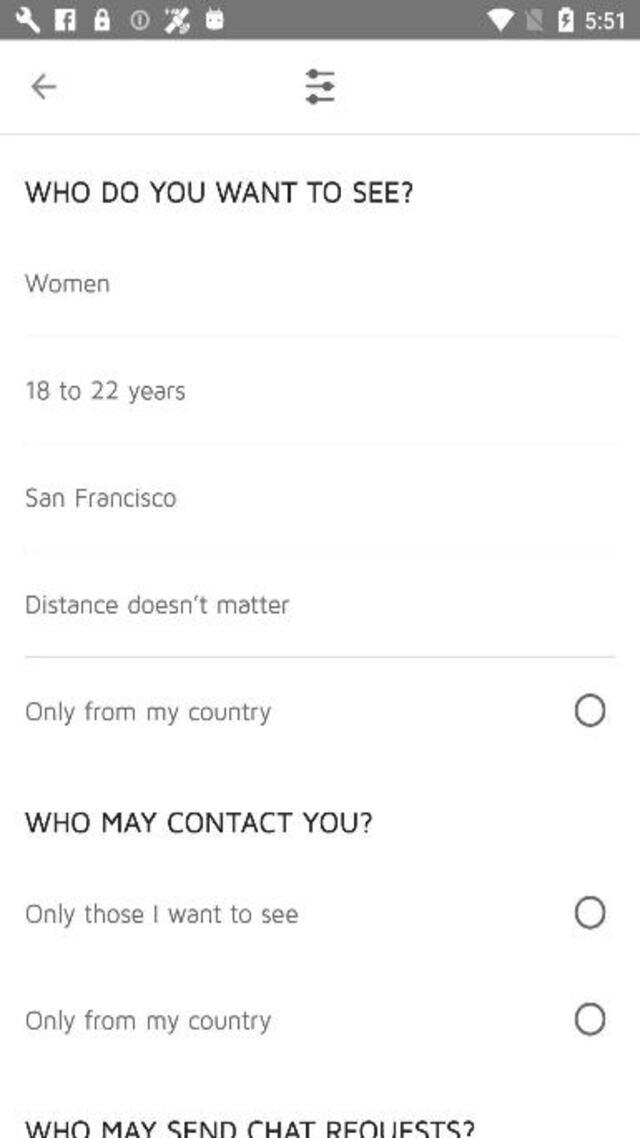CheckedTextView: (26, 895, 606, 929), (26, 1002, 606, 1036), (26, 693, 606, 726)
Icon: (304, 68, 334, 106), (29, 73, 56, 101)
Text: (25, 182, 414, 202), (24, 811, 372, 832), (25, 903, 298, 928), (25, 700, 271, 725), (25, 1008, 271, 1033), (27, 594, 290, 615), (28, 380, 186, 406), (24, 488, 174, 508), (24, 272, 109, 292)
WS3: (24, 1121, 474, 1137)
